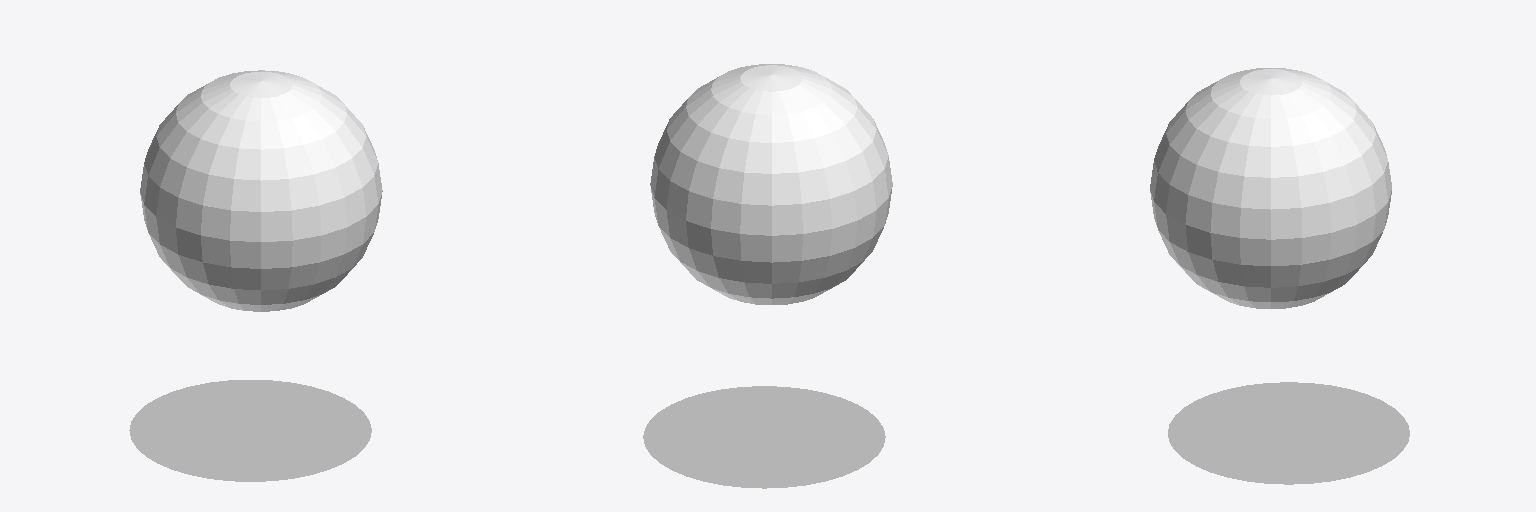
The picture shows the model from 3 angles: view 1: azimuth 30°, elevation 25°; view 2: azimuth 150°, elevation 25°; view 3: azimuth 270°, elevation 25°; orthographic projection.
Parts seen in each view (by area): view 1: Sphere, Disc.1; view 2: Sphere, Disc.1; view 3: Sphere, Disc.1.
Boxes of the visible parts, box(x1,y1,x2,y2) form: Sphere: box(140, 70, 382, 311); Disc.1: box(129, 380, 371, 481); Sphere: box(650, 64, 892, 304); Disc.1: box(643, 386, 885, 488); Sphere: box(1150, 68, 1391, 308); Disc.1: box(1168, 382, 1409, 484).
Size of the model in its own units: 202 by 324 by 215.